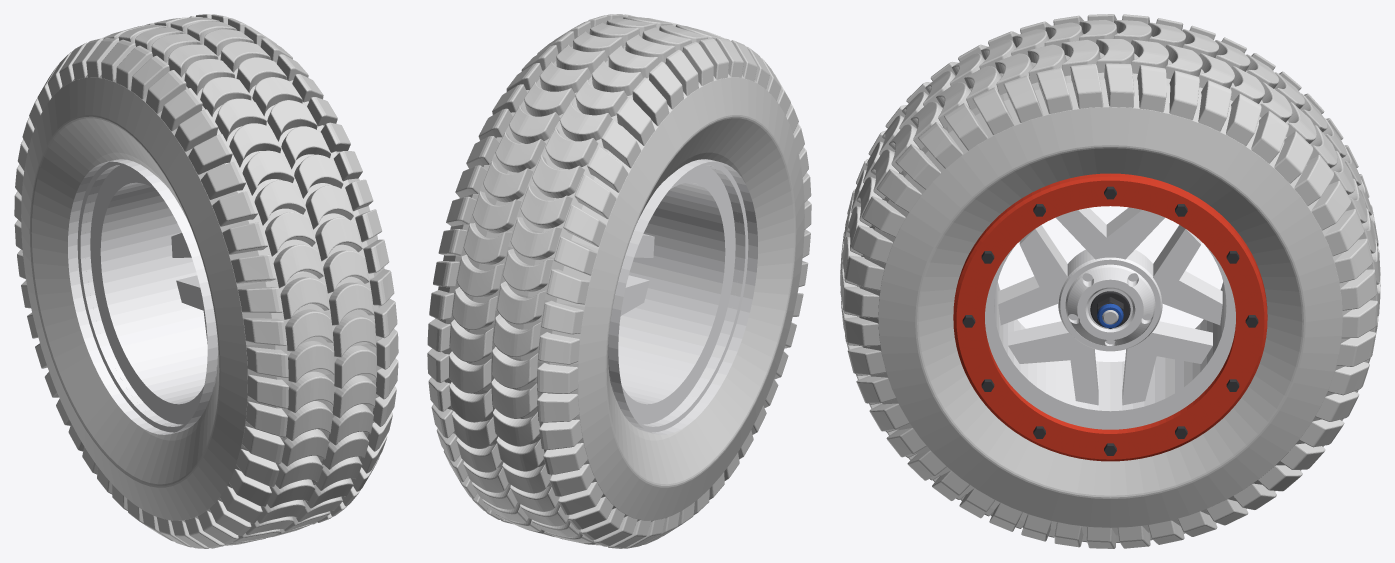
Rendered from traxxas_6873T_wheel_R.dae.
3 views of the same model, side by side, from view 1: azimuth 30°, elevation 25°; view 2: azimuth 150°, elevation 25°; view 3: azimuth 270°, elevation 25° (orthographic). The views are drawn at different scales.
Parts seen in each view (by area): view 1: Tire_Carcass, Wheel_Barrel, Tread_UnitMesh_R.015, Tread_UnitMesh_R.020, Tread_UnitMesh_R.006, Tread_UnitMesh_R.011, Tread_UnitMesh_R.013, Tread_UnitMesh_R.009, Tread_UnitMesh_R.001, Tread_UnitMesh_R, Tread_UnitMesh_R.014, Tread_UnitMesh_R.008 (+7 smaller); view 2: Tire_Carcass, Wheel_Barrel, Tread_UnitMesh_R.022, Tread_UnitMesh_R.018, Tread_UnitMesh_R.010, Tread_UnitMesh_R.007, Tread_UnitMesh_R.012, Tread_UnitMesh_R.004, Tread_UnitMesh_R.008, Tread_UnitMesh_R.002, Tread_UnitMesh_R, Tread_UnitMesh_R.005 (+7 smaller); view 3: Tire_Carcass, Cylinder_001, Spoke_0, Wheel_Barrel, Cylinder, Tread_UnitMesh_R, Tread_UnitMesh_R.008, Tread_UnitMesh_R.009, Tread_UnitMesh_R.012, Tread_UnitMesh_R.011, Tread_UnitMesh_R.018, Tread_UnitMesh_R.020 (+19 smaller).
Part boxes in pixels (box(x1,y1,x2,y2)): Tire_Carcass: box(21, 43, 384, 522); Wheel_Barrel: box(68, 159, 217, 434); Tread_UnitMesh_R.015: box(243, 269, 397, 382); Tread_UnitMesh_R.020: box(212, 151, 373, 256); Tread_UnitMesh_R.006: box(231, 209, 389, 319); Tread_UnitMesh_R.011: box(188, 97, 350, 199); Tread_UnitMesh_R.013: box(246, 329, 398, 440); Tread_UnitMesh_R.009: box(160, 54, 323, 151); Tread_UnitMesh_R.001: box(236, 386, 396, 488); Tread_UnitMesh_R: box(131, 26, 292, 113); Tread_UnitMesh_R.014: box(220, 435, 387, 523); Tread_UnitMesh_R.008: box(101, 14, 248, 88); Tire_Carcass: box(435, 46, 804, 521); Wheel_Barrel: box(608, 159, 757, 434); Tread_UnitMesh_R.022: box(429, 249, 589, 334); Tread_UnitMesh_R.018: box(455, 127, 628, 218); Tread_UnitMesh_R.010: box(438, 185, 605, 275); Tread_UnitMesh_R.007: box(427, 314, 579, 393); Tread_UnitMesh_R.012: box(478, 79, 654, 168); Tread_UnitMesh_R.004: box(428, 377, 582, 449); Tread_UnitMesh_R.008: box(506, 44, 683, 126); Tread_UnitMesh_R.002: box(436, 428, 594, 496); Tread_UnitMesh_R: box(537, 21, 713, 96); Tread_UnitMesh_R.005: box(455, 474, 613, 529); Tire_Carcass: box(857, 33, 1351, 535); Cylinder_001: box(953, 173, 1267, 461); Spoke_0: box(998, 207, 1222, 405); Wheel_Barrel: box(985, 244, 1235, 429); Cylinder: box(1058, 249, 1162, 351); Tread_UnitMesh_R: box(1044, 14, 1134, 108); Tread_UnitMesh_R.008: box(1113, 14, 1202, 120); Tread_UnitMesh_R.009: box(979, 21, 1072, 122); Tread_UnitMesh_R.012: box(1182, 25, 1264, 146); Tread_UnitMesh_R.011: box(923, 44, 1014, 150); Tread_UnitMesh_R.018: box(1246, 53, 1316, 183); Tread_UnitMesh_R.020: box(879, 82, 963, 189).
Bounding box in the file's own units: 0.0393 × 0.1095 × 0.1095.
